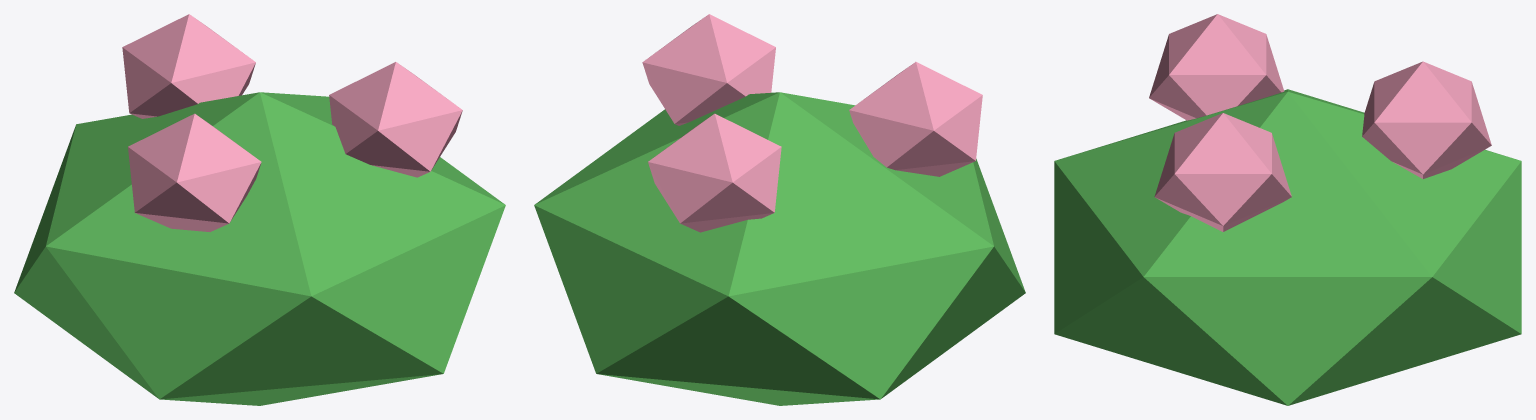
The model's file is plant_flower_bush.glb.
The picture shows the model from 3 angles, left to right: view 1: azimuth 30°, elevation 25°; view 2: azimuth 150°, elevation 25°; view 3: azimuth 270°, elevation 25°; orthographic projection.
Visible parts, largest first — view 1: plant_flower_bush; view 2: plant_flower_bush; view 3: plant_flower_bush.
Part boxes in pixels (x1,y1,x2,y2): plant_flower_bush: (14, 14, 505, 405); plant_flower_bush: (534, 14, 1025, 405); plant_flower_bush: (1054, 14, 1521, 405).
Size of the model in its own units: 0.14 by 0.1071 by 0.1331.
